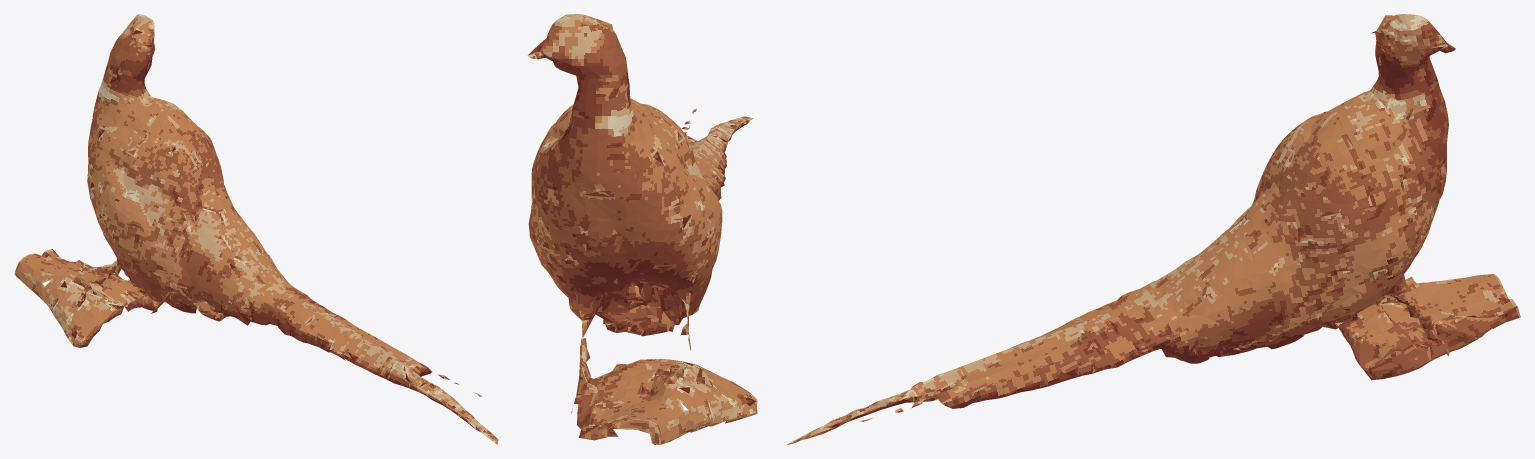
File: kiji.glb
3 renders of one model, left to right at view 1: azimuth 30°, elevation 25°; view 2: azimuth 150°, elevation 25°; view 3: azimuth 270°, elevation 25°, orthographic. The views are drawn at different scales.
Parts seen in each view (by area): view 1: model_bird; view 2: model_bird; view 3: model_bird.
Part boxes in pixels (box(x1,y1,x2,y2)): model_bird: box(14, 14, 498, 444); model_bird: box(527, 14, 757, 444); model_bird: box(786, 14, 1520, 444).
Size of the model in its own units: 19.37 by 23.06 by 41.94.
Materials: 1 (1 with a texture image).
